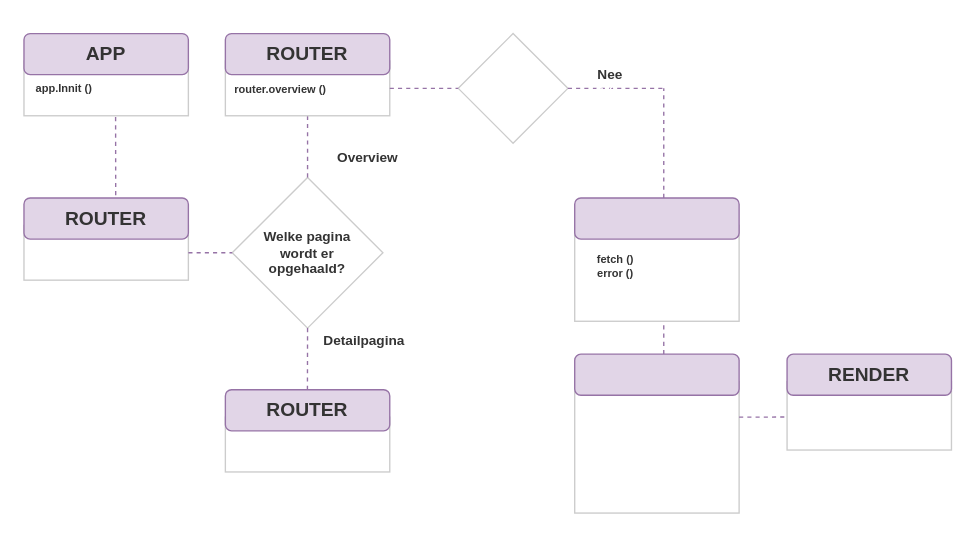
The diagram is 975 pixels wide and 537 high, and some of its shapes have lost their labels. The shapes that lost their labels are listed below. From the top down, each one's centre as x and y in pixels, then its label:
At point (512, 87): "Local storage?".
At point (656, 218): "API".
At point (656, 374): "DATA".
At point (307, 444): "router.detailpage ()".
At point (656, 446): "getPaintings () getTitle () getPainters () getProductionPlace ()".
